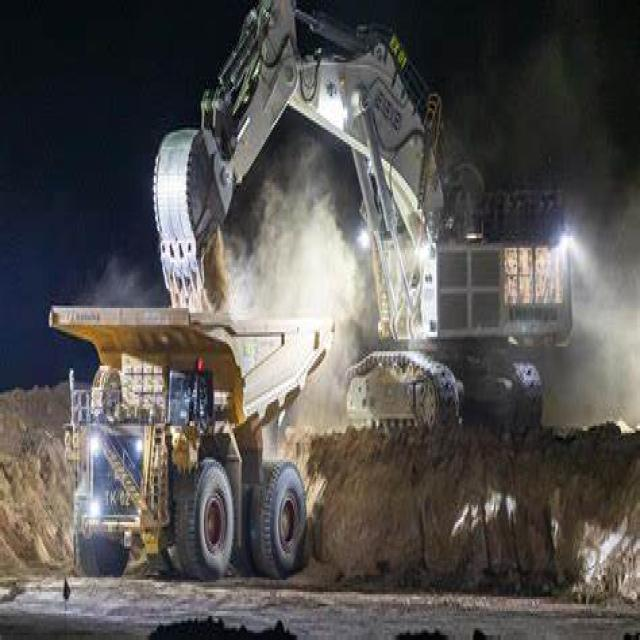dump_truck: (36, 269, 335, 592)
excavator: (148, 0, 566, 414)
